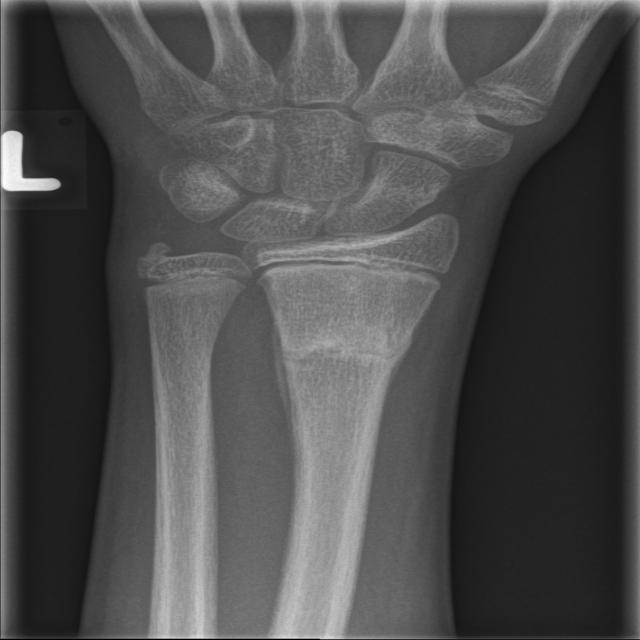radius fracture: (245, 282, 444, 468)
